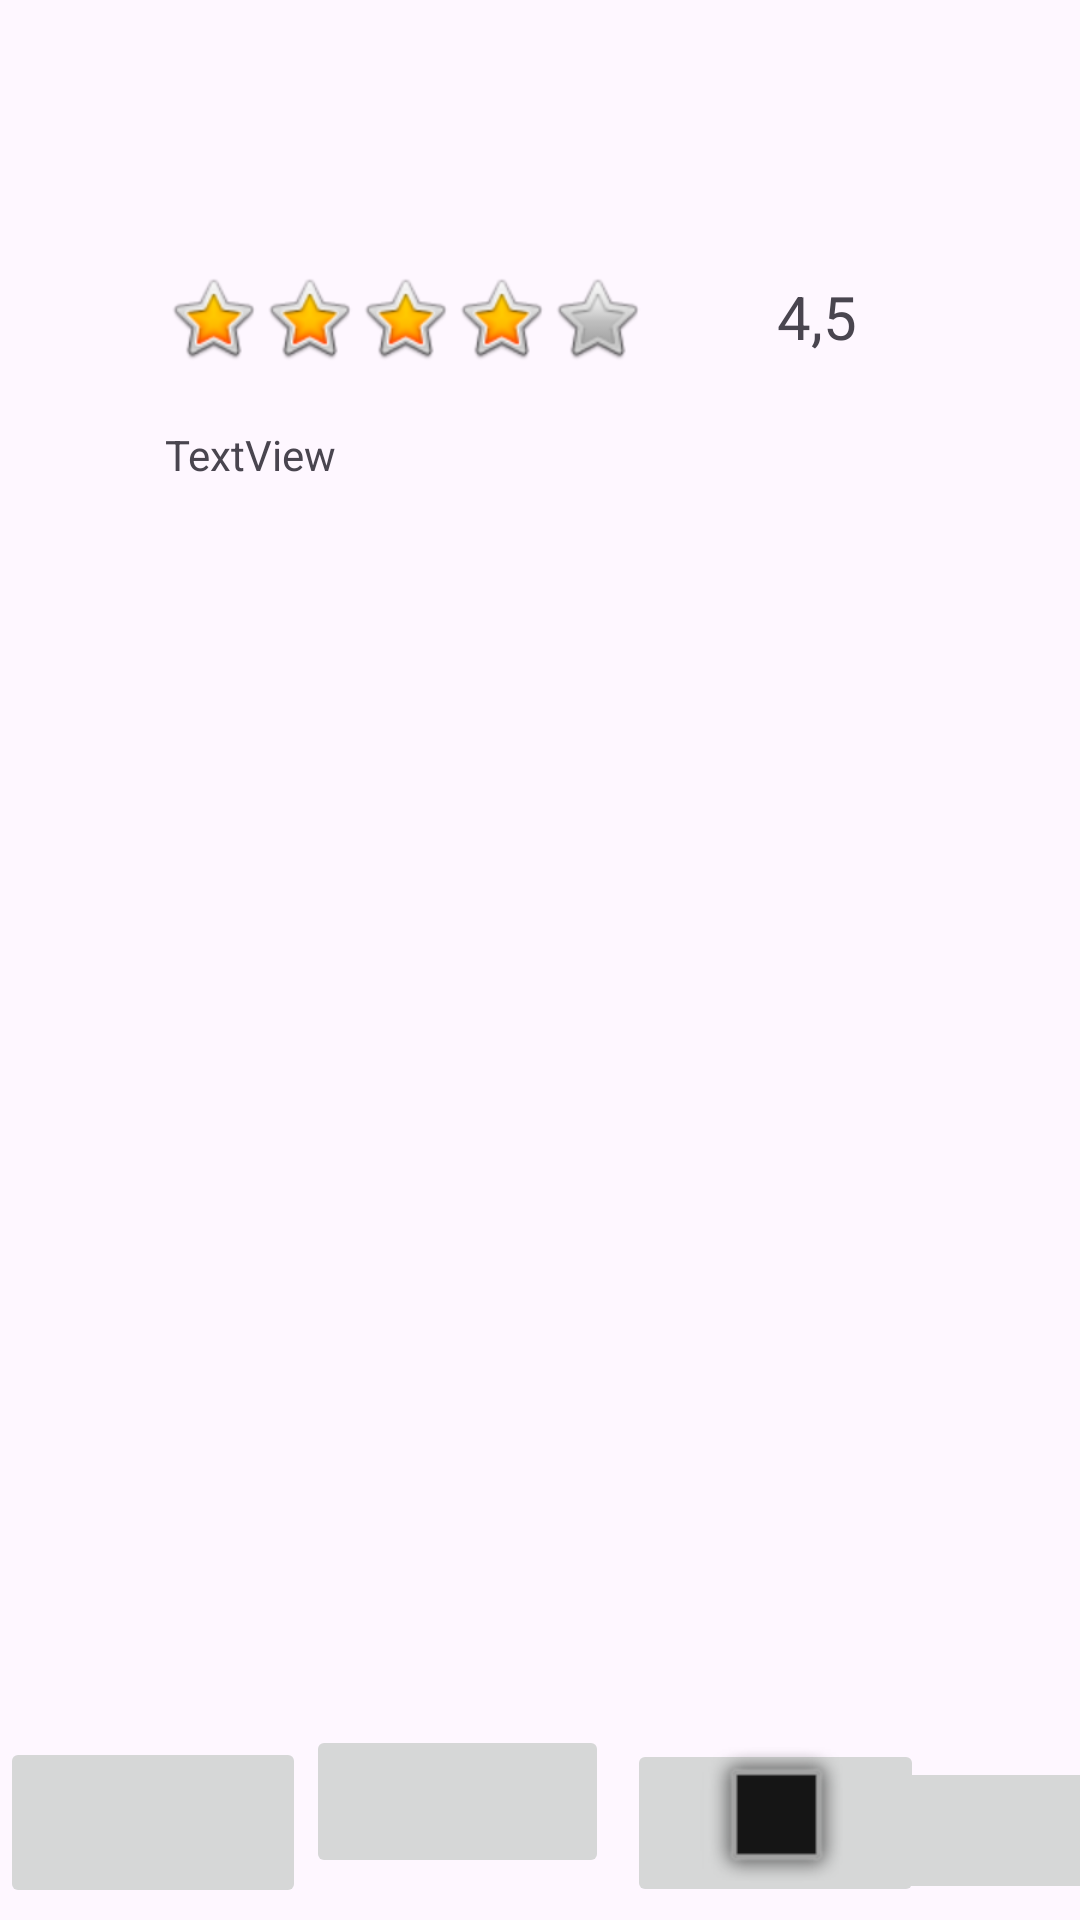

Screen size 1080px x 1920px. Icon name, then its center in pixels as (x,y):
star off: (598,319)
star on: (214,319), (310,319), (406,319), (502,319)
